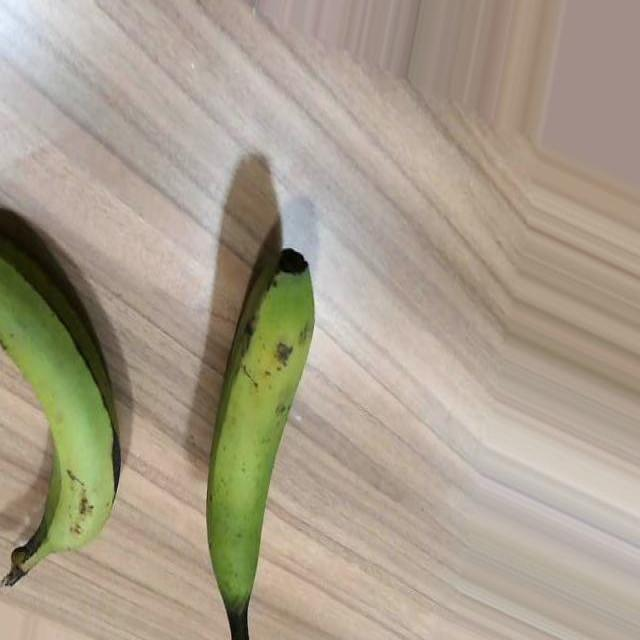Unripe: (0, 235, 123, 588), (204, 247, 314, 640)
